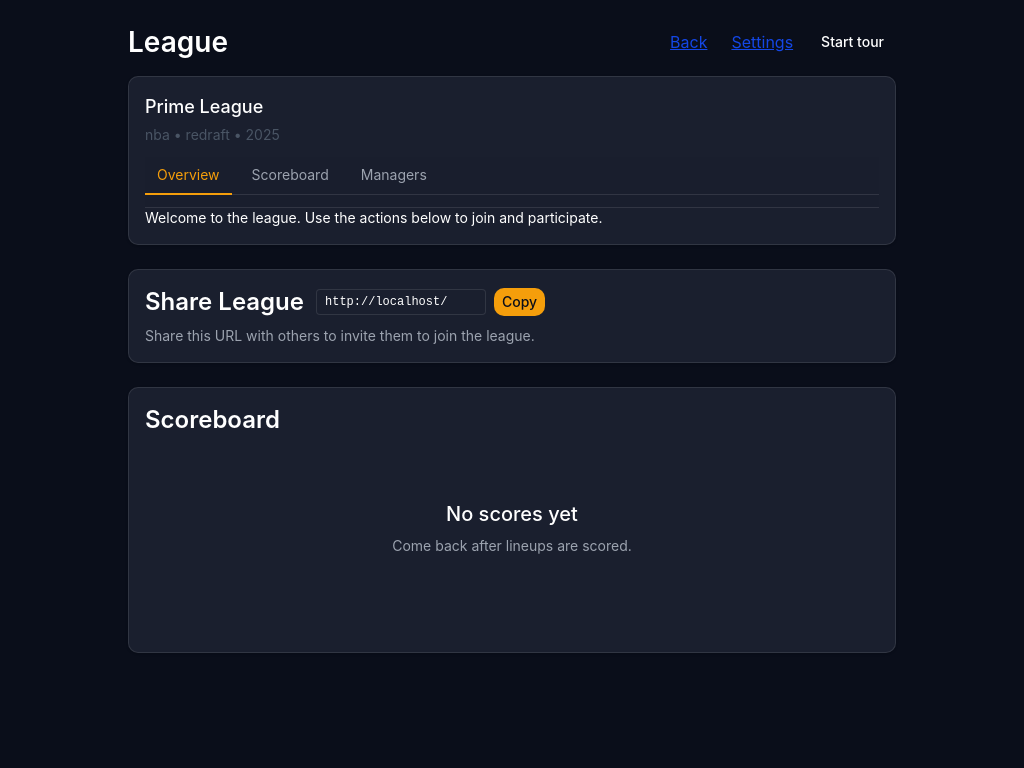
it: League Public • Managers tab › shows empty state when no managers
Click the tab "Managers": (394, 176) [349,157,439,195]
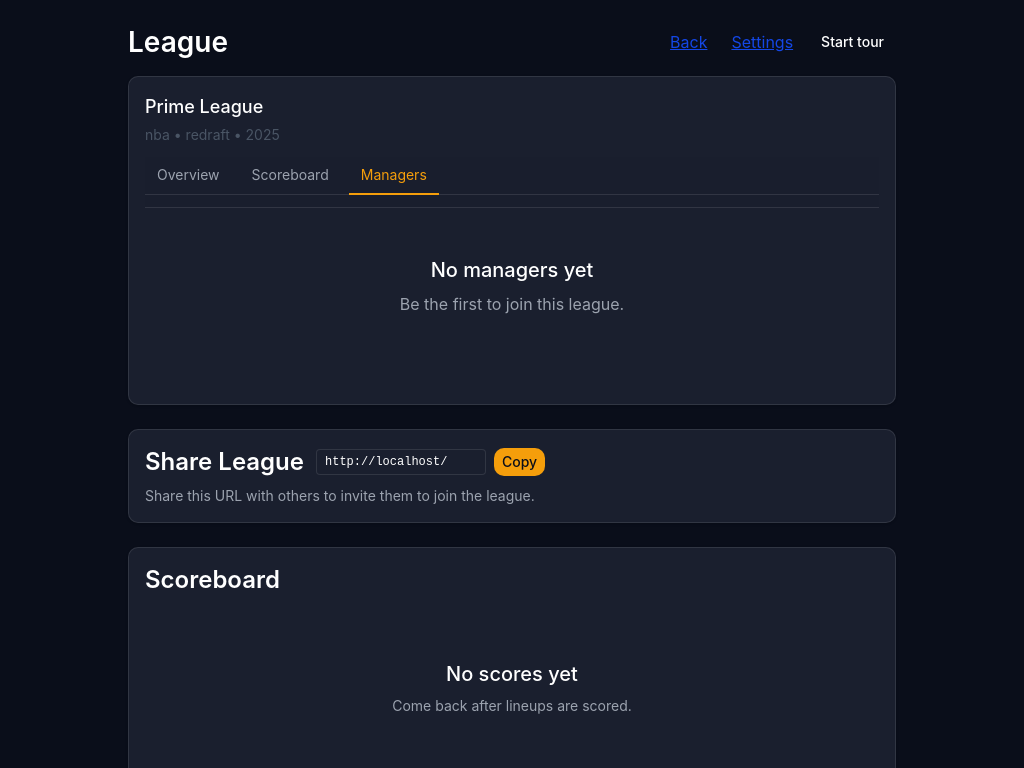
Now the heading "No managers yet" is shown, box [431,256,593,284]
